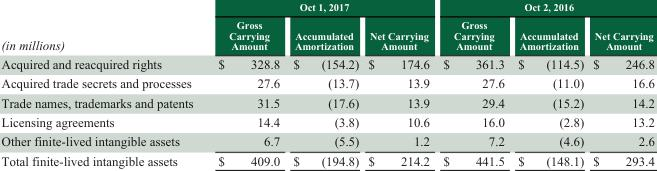table: (0, 1, 653, 167)
table column: (0, 1, 205, 167), (205, 1, 285, 167), (285, 1, 362, 167), (510, 1, 587, 167), (435, 1, 510, 167), (362, 1, 435, 167), (587, 1, 653, 167)
table column header: (0, 1, 653, 53)
table row: (0, 15, 653, 53), (0, 53, 653, 73), (0, 111, 653, 131), (0, 73, 653, 92), (0, 92, 653, 111), (0, 131, 653, 150), (0, 150, 653, 167), (0, 1, 653, 15)
table spanning cell: (0, 1, 205, 53), (205, 1, 435, 15), (435, 1, 653, 15)
